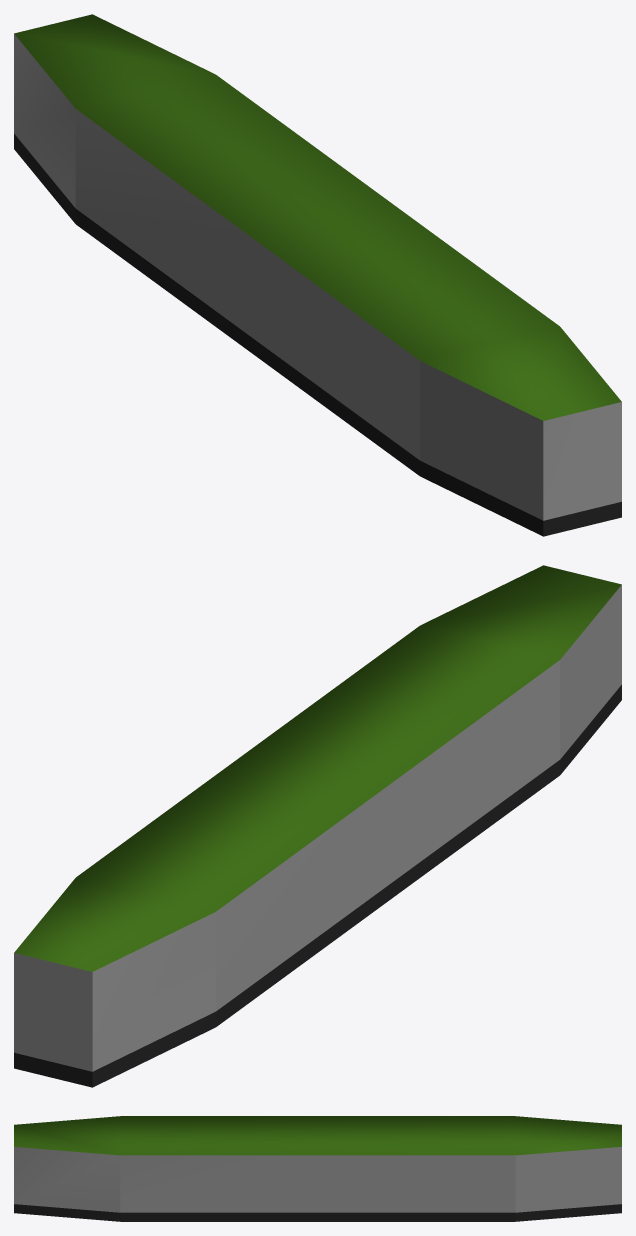
The model's file is W_O_Playground_Glassbed_L3.fbx.
3 renders of one model, top to bottom at view 1: azimuth 30°, elevation 25°; view 2: azimuth 150°, elevation 25°; view 3: azimuth 270°, elevation 25°, orthographic. The views are drawn at different scales.
Visible parts, largest first — view 1: W_O_Playground_Glassbed_L3; view 2: W_O_Playground_Glassbed_L3; view 3: W_O_Playground_Glassbed_L3.
Part boxes in pixels (<box>): W_O_Playground_Glassbed_L3: <box>14,14,621,536</box>; W_O_Playground_Glassbed_L3: <box>14,565,621,1087</box>; W_O_Playground_Glassbed_L3: <box>14,1116,621,1221</box>.
Bounding box in the file's own units: 0.4555 × 2.98 × 0.359.
